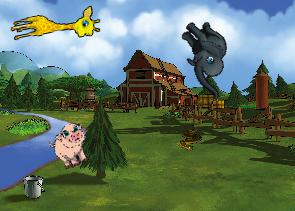elephant: (161, 13, 250, 100)
giraffe: (8, 4, 102, 51)
pig: (45, 119, 97, 173)
